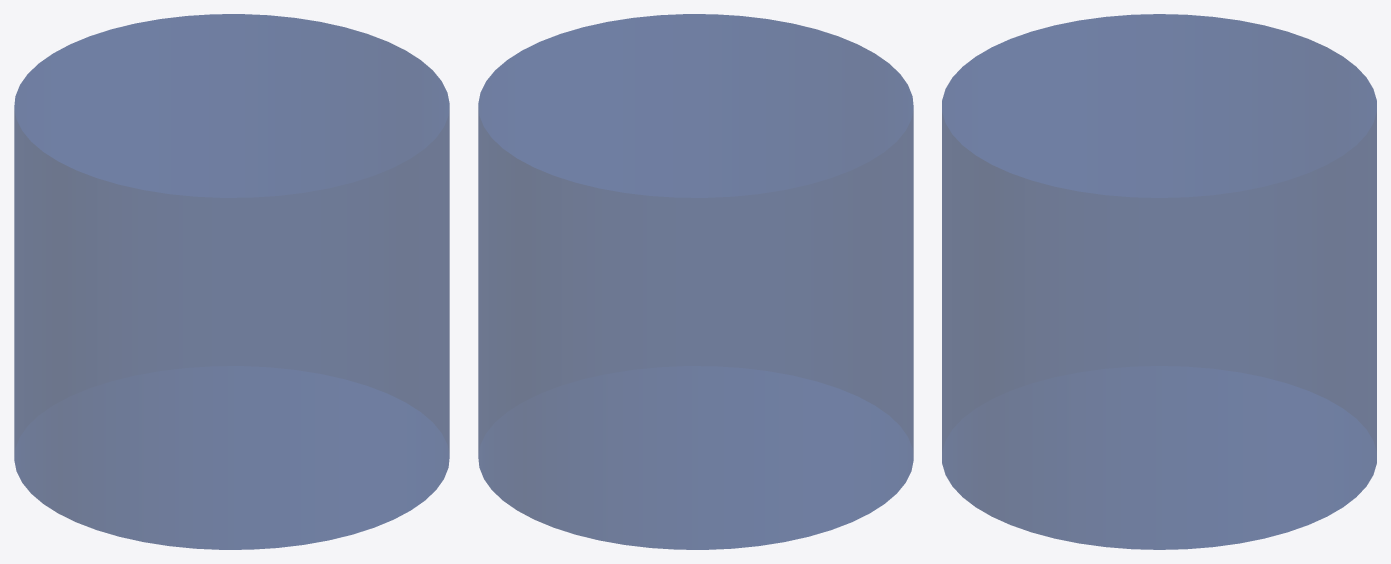
The model's file is water.dae.
3 views of the same model, side by side, from view 1: azimuth 30°, elevation 25°; view 2: azimuth 150°, elevation 25°; view 3: azimuth 270°, elevation 25° (orthographic).
Parts seen in each view (by area): view 1: vann1; view 2: vann1; view 3: vann1.
Part boxes in pixels (x1=…): vann1: x1=14, y1=14, x2=449, y2=549; vann1: x1=478, y1=14, x2=913, y2=549; vann1: x1=942, y1=14, x2=1376, y2=549.
Size of the model in its own units: 1.87 by 1.67 by 1.87.
